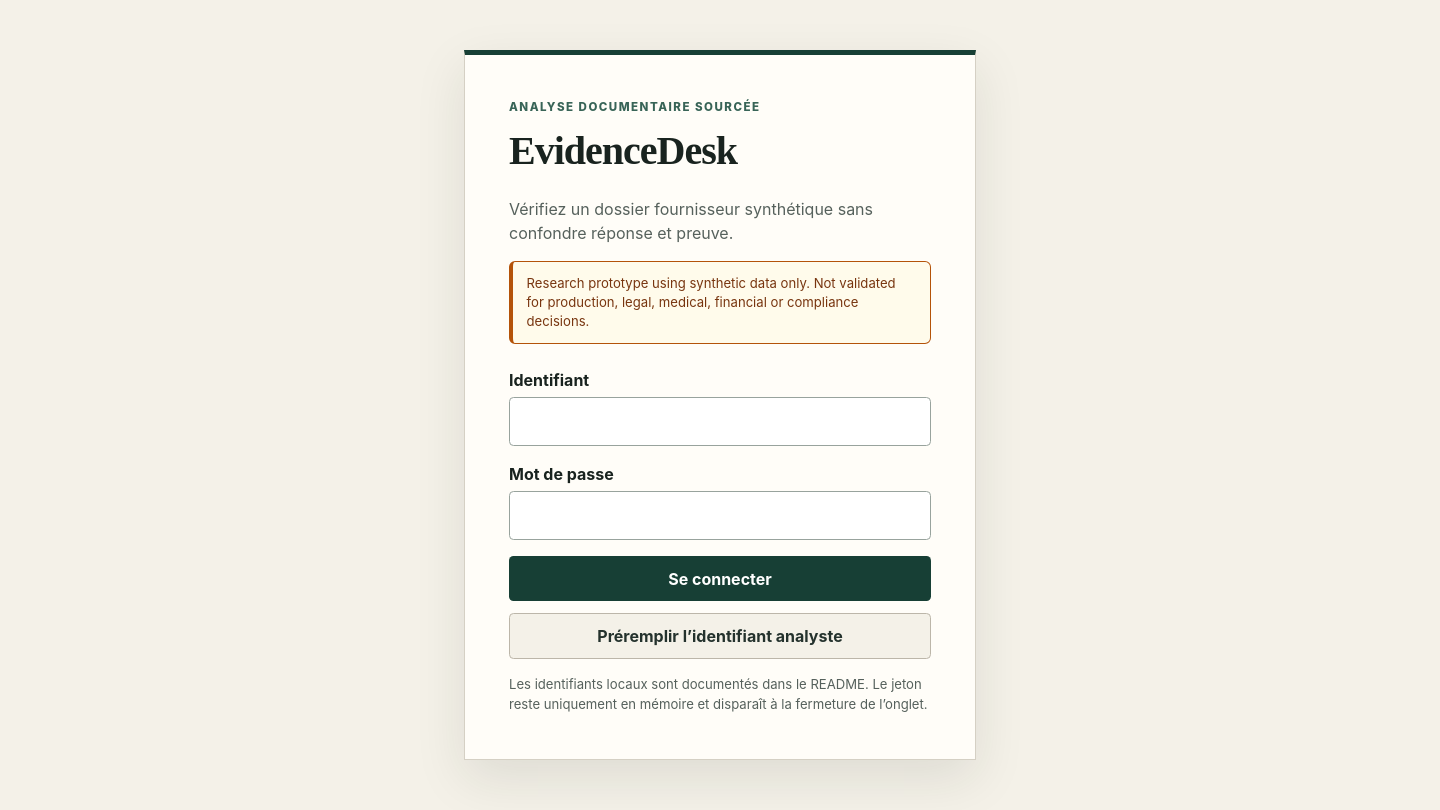
Scenario: EvidenceDesk REST flow › authenticates then renders API-provided dossier data
Step 1. Type "demo.admin" into the field labelled "Identifiant" → (720, 422), box [509,397,931,446]
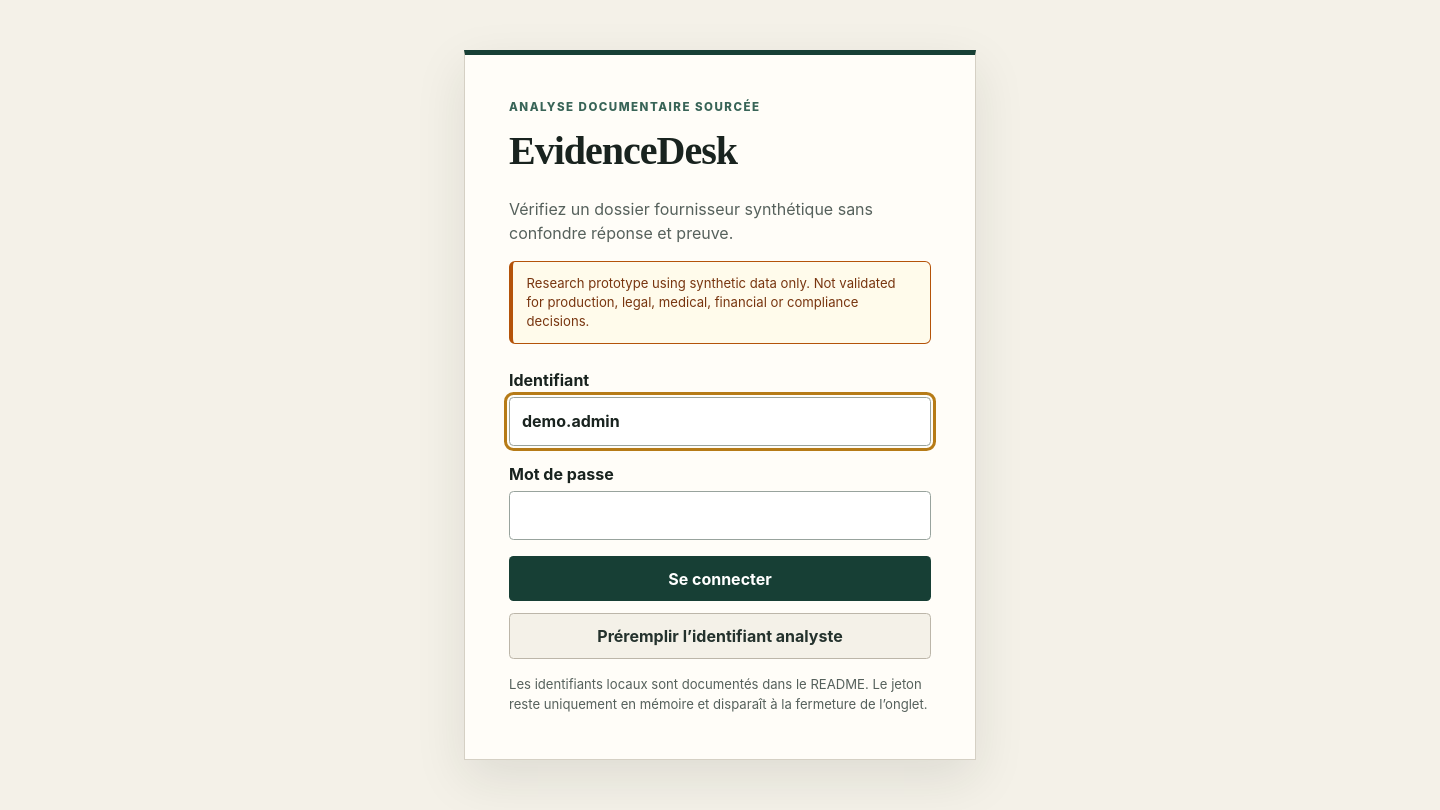
Step 2. Type "EvidenceDemo-Admin-2026!" into the password field labelled "Mot de passe" → (720, 516), box [509,491,931,540]
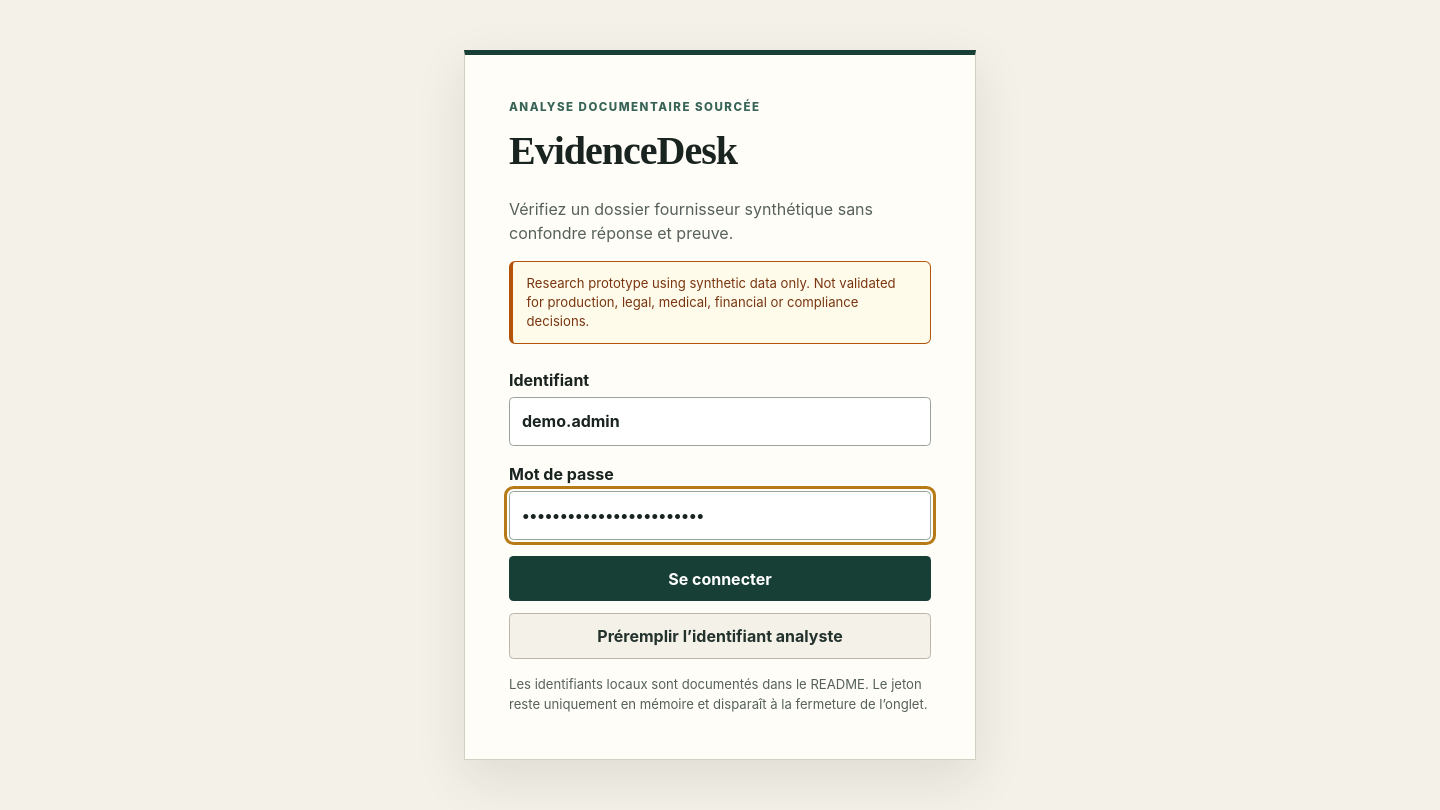
Step 3. Click the button "Se connecter" → (720, 578), box [509,556,931,601]
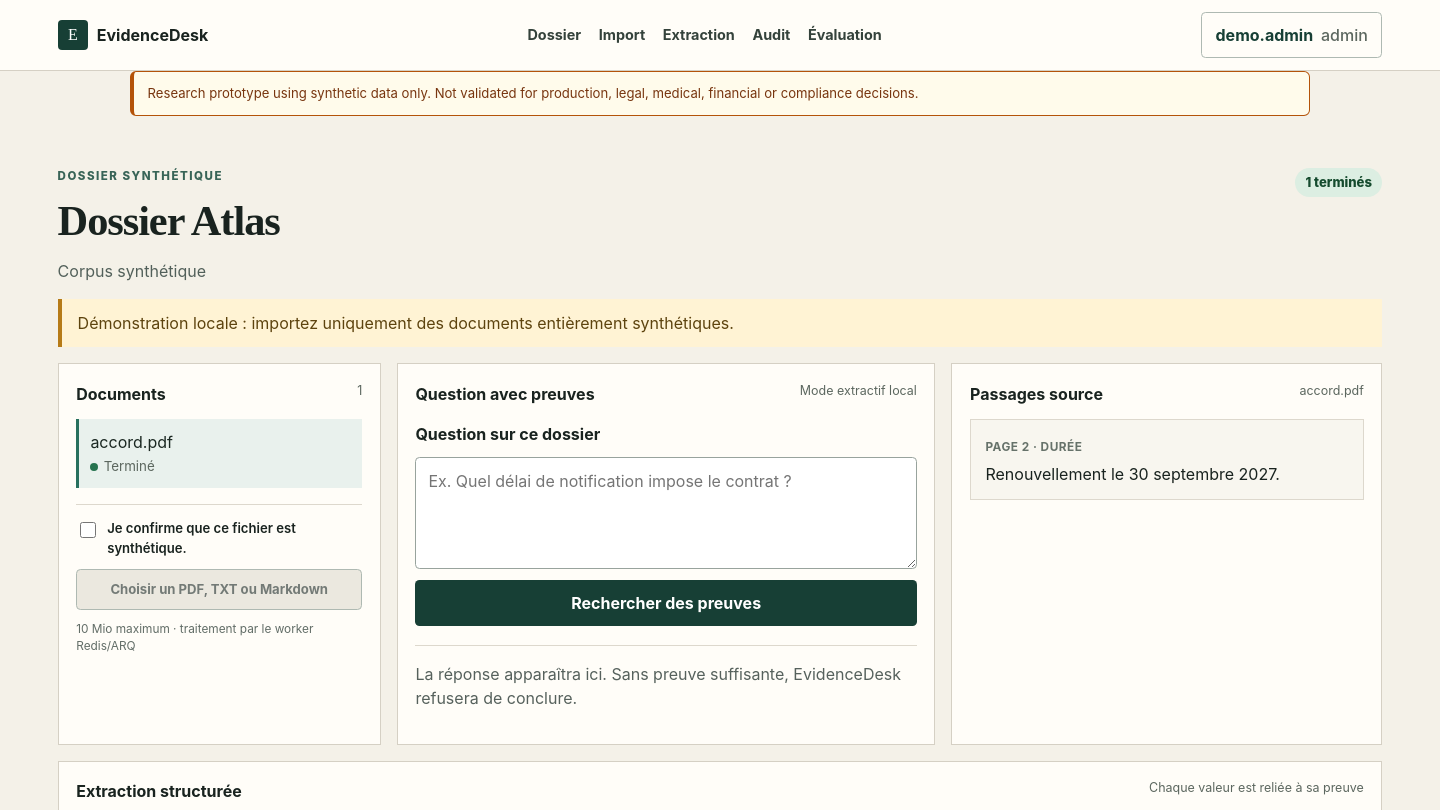
Now the heading "Dossier Atlas" is shown, box [58,189,280,253]
Now the text "Renouvellement le 30 septembre 2027." is shown, box [986,464,1280,484]
